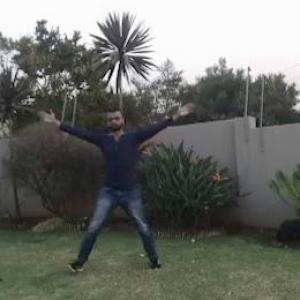takeoff: (41, 100, 198, 280)
